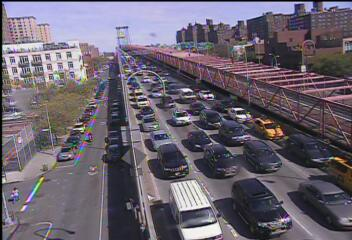neg: (84, 130, 96, 146), (131, 121, 143, 137), (203, 100, 211, 110)
pos: (8, 186, 20, 201)
